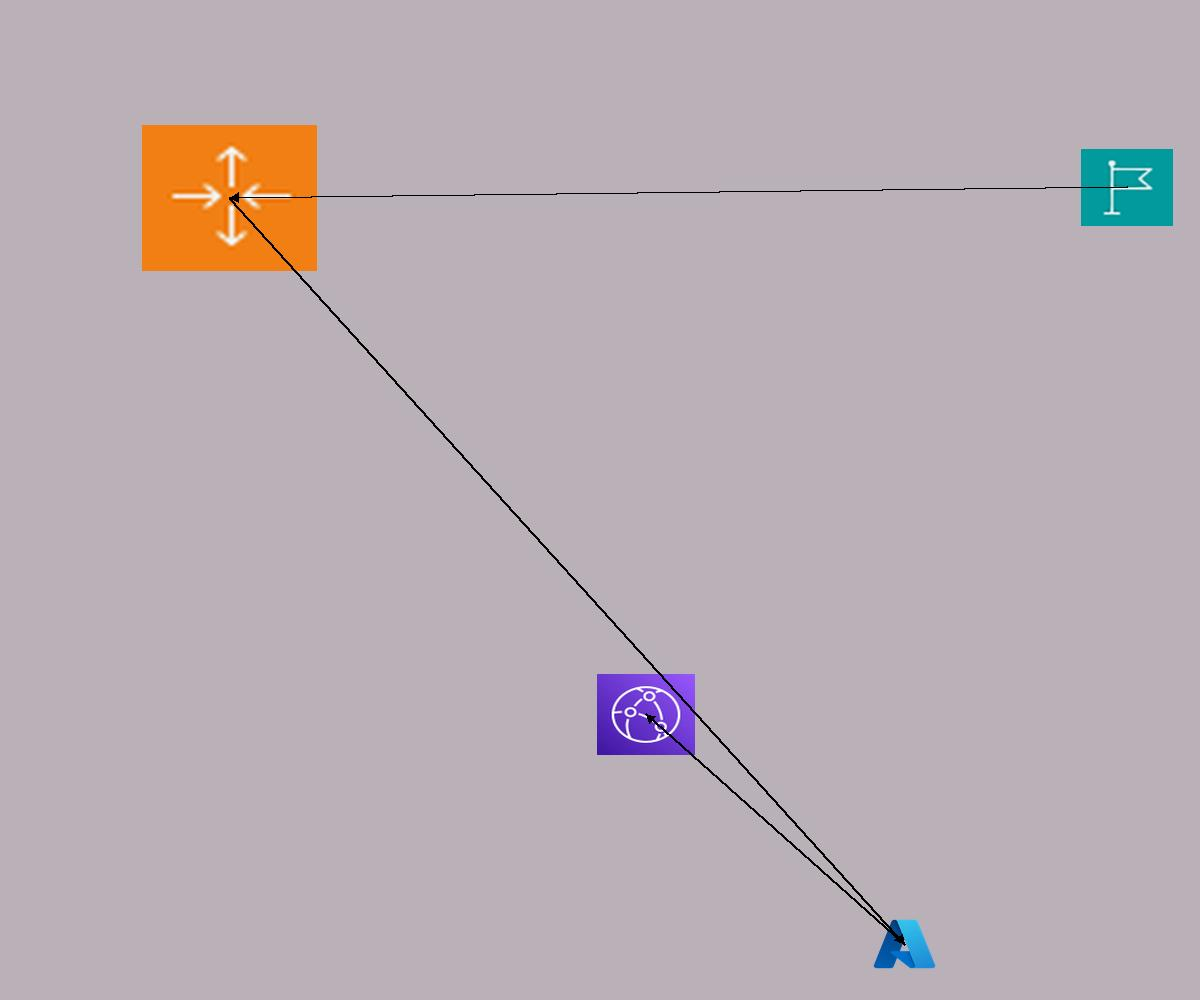AWS-CloudFront: (597, 674, 695, 755)
AWS-Region: (1081, 149, 1173, 226)
AWS-Scaling-group: (142, 125, 317, 271)
Azure_services: (871, 916, 938, 972)
